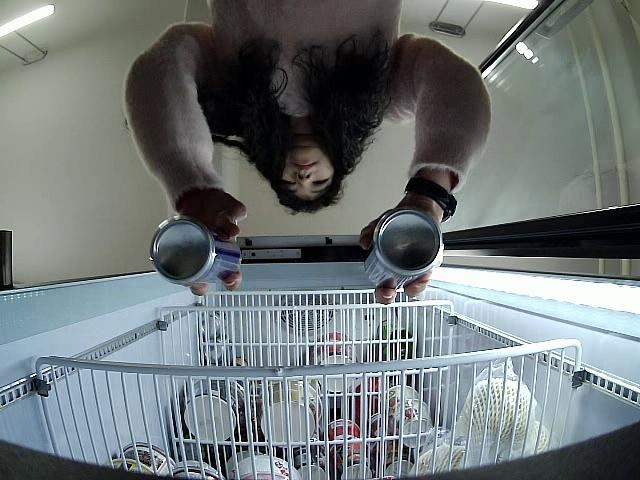00_hand: (357, 204, 439, 303), (178, 192, 248, 297)
16_hot6: (362, 210, 440, 291), (149, 219, 241, 287)
